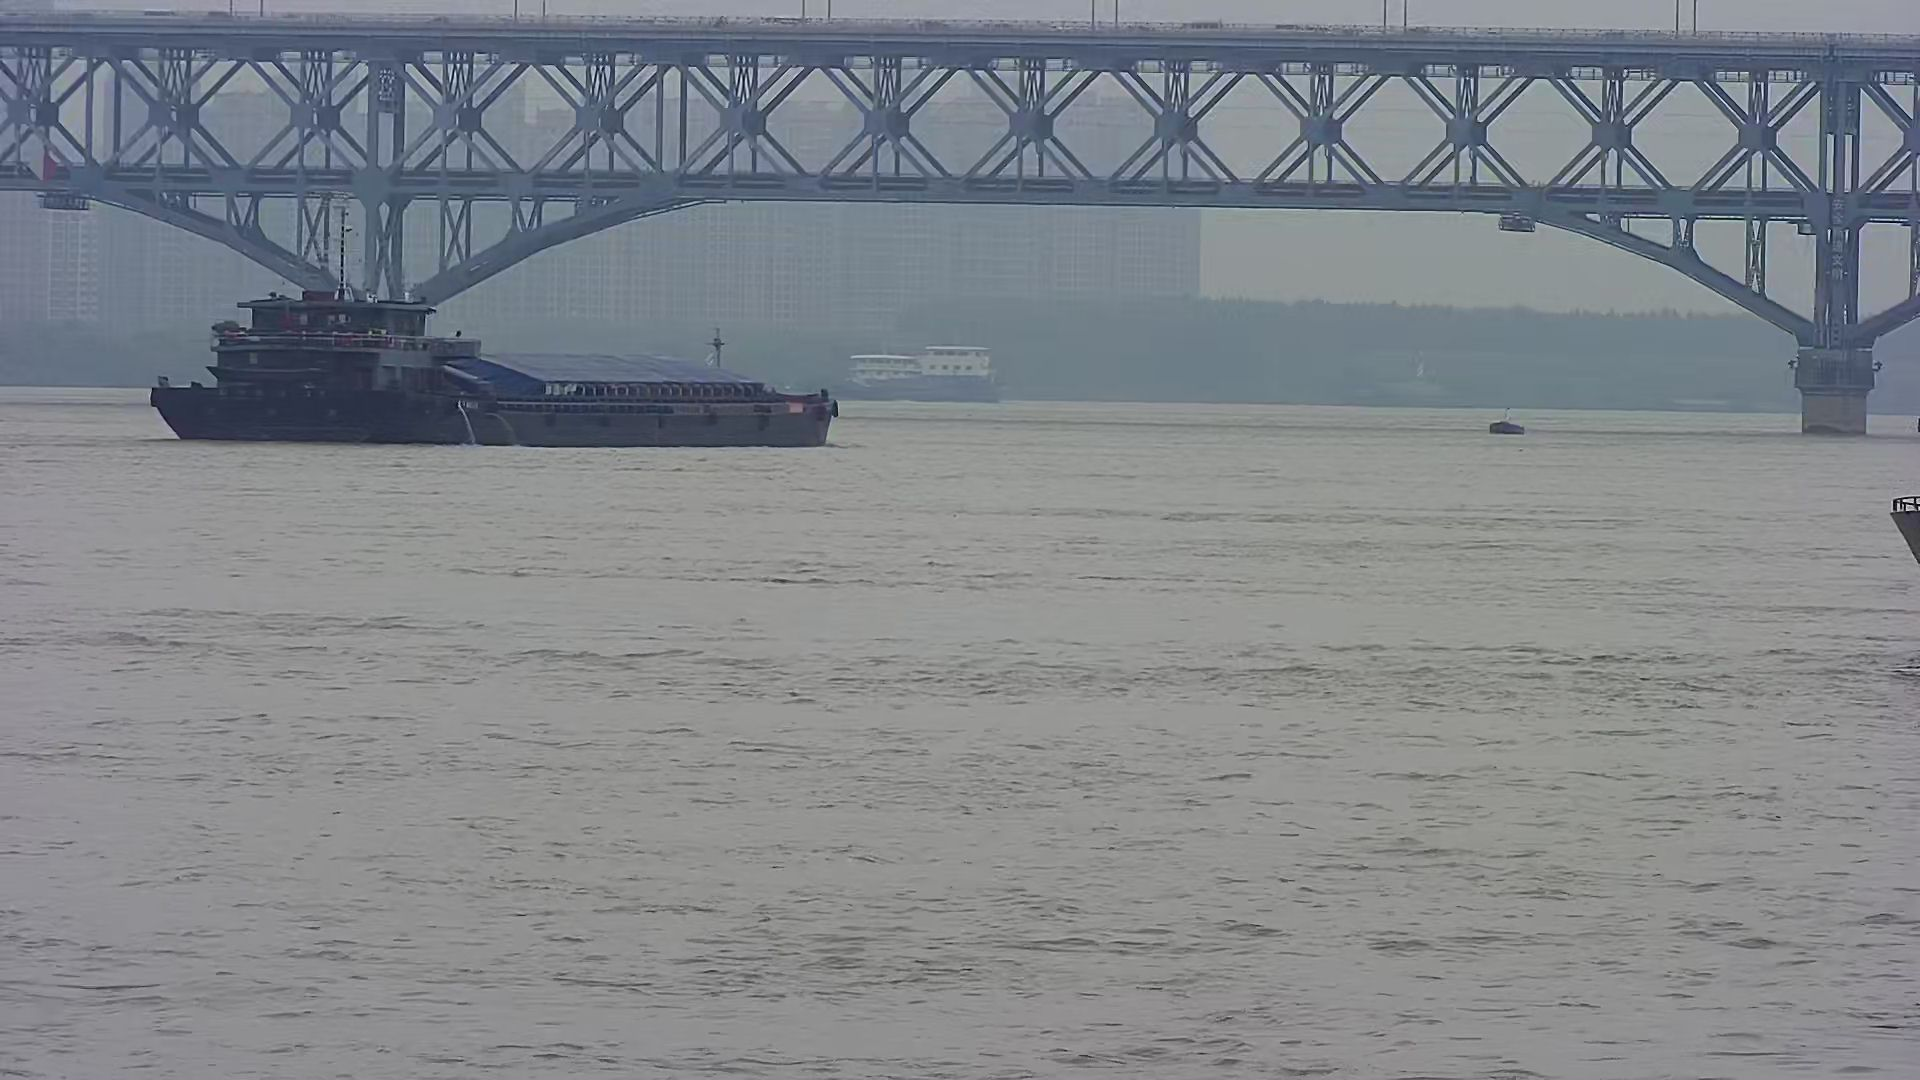boat: (1472, 400, 1544, 443)
bridge: (1, 8, 1915, 442)
ship: (132, 181, 848, 458), (796, 323, 1021, 414)
